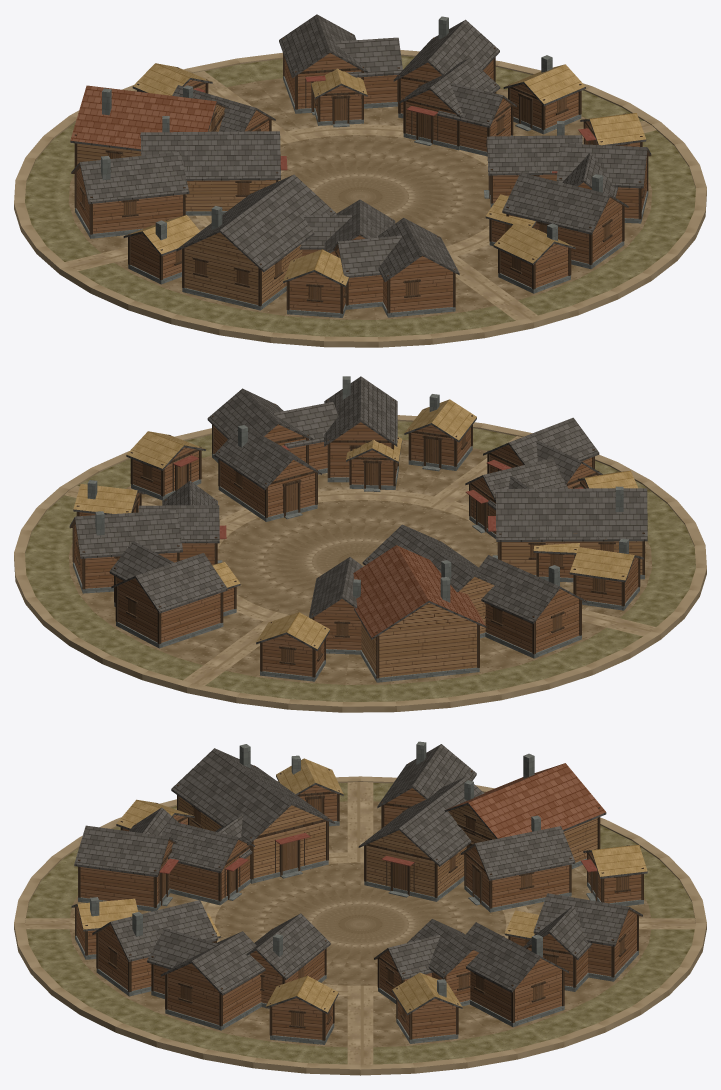
Rendered from village_small_lod0.glb.
3 views of the same model, one above another, from view 1: azimuth 30°, elevation 25°; view 2: azimuth 150°, elevation 25°; view 3: azimuth 270°, elevation 25° (orthographic).
Parts seen in each view (by area): view 1: ae_sand_village_small_lod0; view 2: ae_sand_village_small_lod0; view 3: ae_sand_village_small_lod0.
Boxes of the visible parts, bbox=[...] form: ae_sand_village_small_lod0: bbox=[14, 14, 706, 347]; ae_sand_village_small_lod0: bbox=[14, 376, 706, 712]; ae_sand_village_small_lod0: bbox=[14, 741, 706, 1075].
Size of the model in its own units: 1.9 by 0.2738 by 1.9.
Materials: 1 (1 with a texture image).
